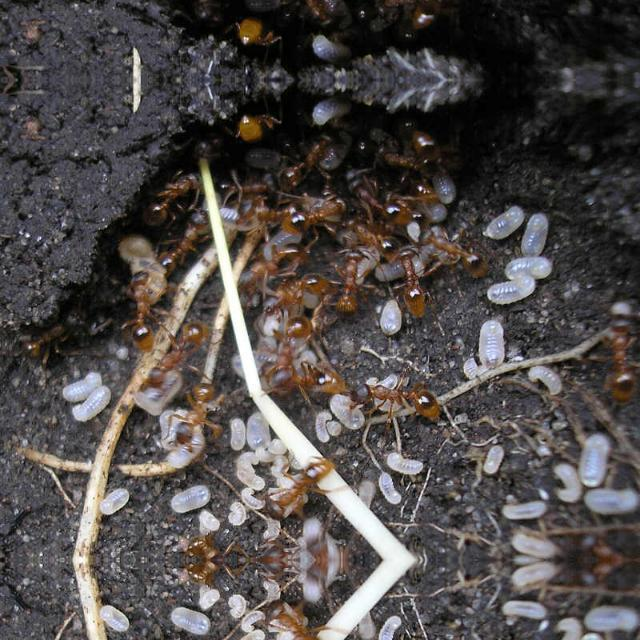Myrmica: (256, 442, 356, 520), (348, 370, 454, 426), (365, 122, 455, 178), (424, 220, 506, 280), (594, 303, 640, 409), (15, 310, 100, 366), (324, 240, 380, 322), (140, 143, 196, 225), (238, 268, 318, 322), (550, 512, 640, 560), (550, 560, 640, 608), (347, 168, 421, 226), (254, 600, 356, 640), (261, 352, 341, 401), (263, 301, 315, 375), (172, 386, 230, 452), (122, 268, 160, 366), (284, 123, 342, 187), (393, 245, 443, 318), (365, 0, 455, 38), (152, 330, 204, 390), (168, 207, 210, 281), (282, 190, 344, 236), (169, 524, 247, 560), (169, 560, 247, 596), (294, 509, 346, 559), (294, 561, 346, 611), (234, 240, 286, 286), (232, 196, 304, 228), (282, 0, 341, 36), (222, 101, 276, 135), (222, 25, 276, 59), (405, 165, 447, 208), (210, 168, 288, 186), (139, 0, 194, 16)
